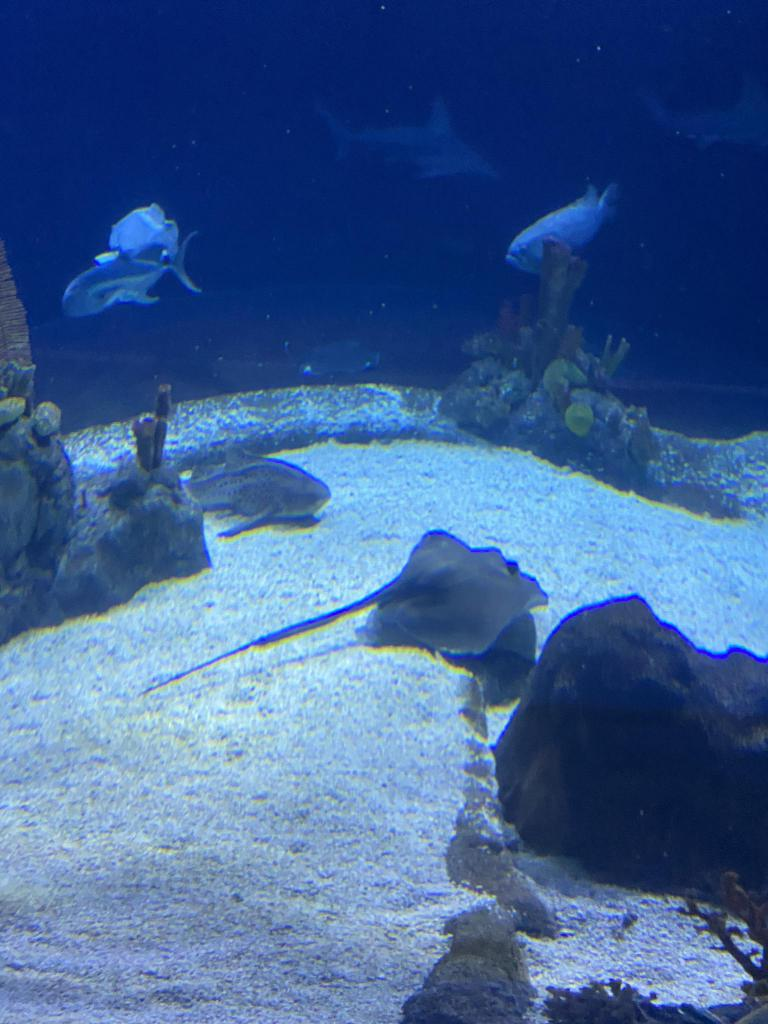fish: (168, 453, 332, 523), (506, 188, 624, 268), (51, 256, 205, 310), (98, 206, 190, 260)
shark: (335, 108, 496, 180)
stingray: (372, 528, 548, 652)
